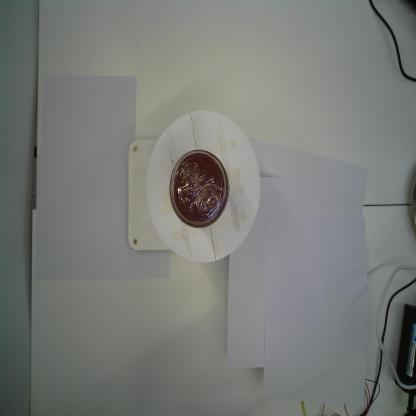Instant Drink: (167, 147, 230, 232)
